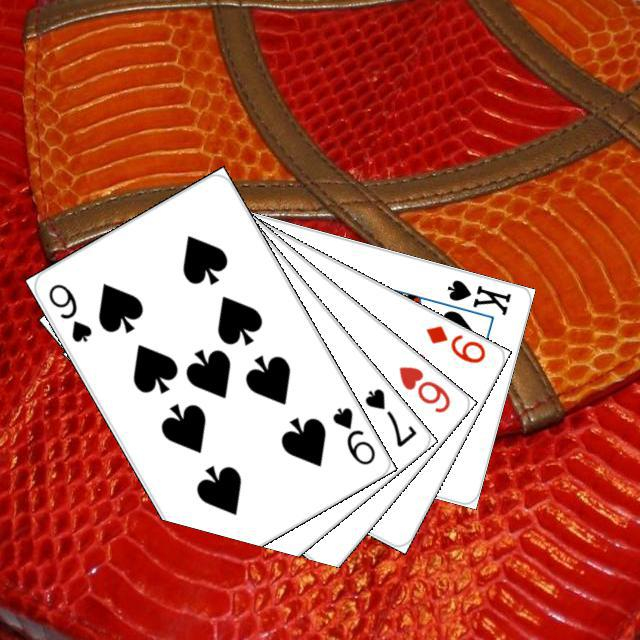6h: (393, 361, 453, 415)
7s: (359, 383, 418, 449)
9d: (420, 320, 488, 365)
9s: (43, 278, 94, 344), (327, 402, 377, 467)
Ks: (442, 274, 513, 317)
